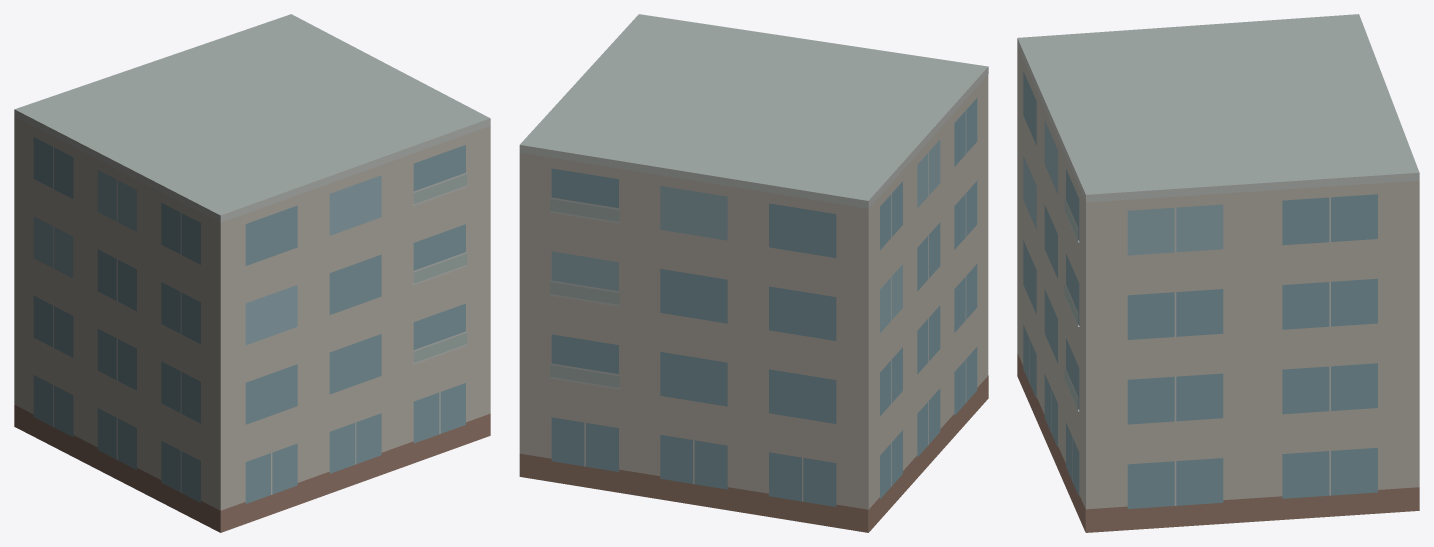
Rendered from survey-upis-32575899.glb.
3 renders of one model, left to right at view 1: azimuth 30°, elevation 25°; view 2: azimuth 150°, elevation 25°; view 3: azimuth 270°, elevation 25°, orthographic. The views are drawn at different scales.
Visible parts, largest first — view 1: survey-upis-32575899.tmp; view 2: survey-upis-32575899.tmp; view 3: survey-upis-32575899.tmp.
Boxes of the visible parts, x1,y1,x2,y2 form: survey-upis-32575899.tmp: (14, 14, 490, 532); survey-upis-32575899.tmp: (519, 14, 988, 532); survey-upis-32575899.tmp: (1017, 14, 1419, 532).
Size of the model in its own units: 12.11 by 10.55 by 11.39.
